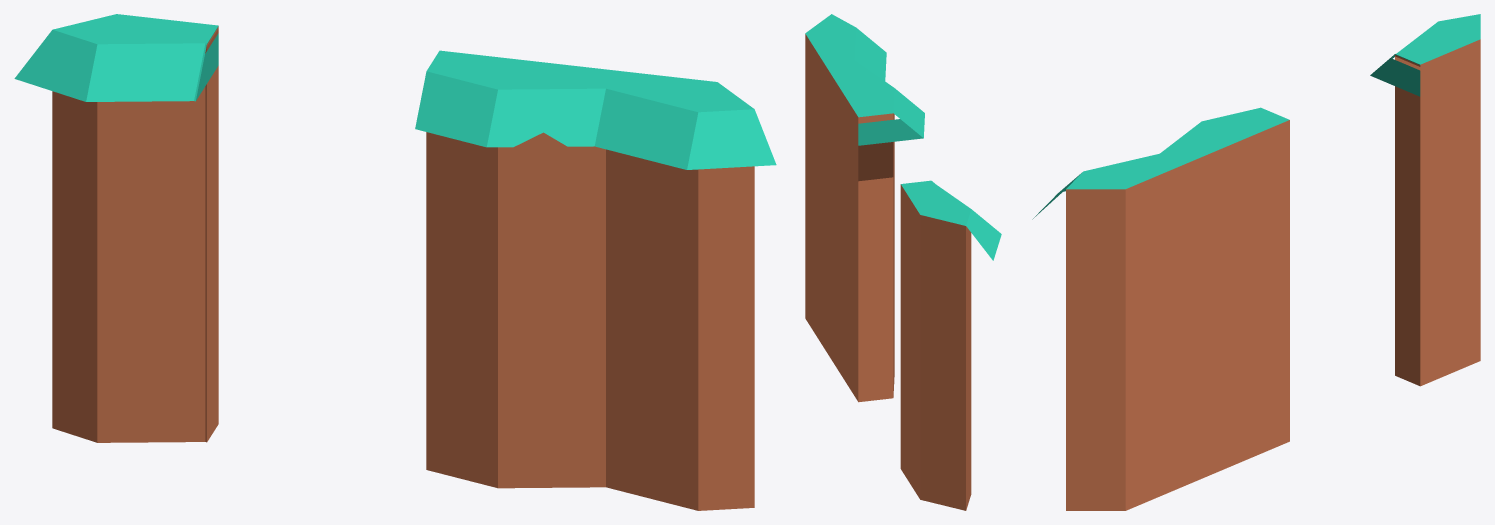
File: cliff_topDiagonal_rock_notch.fbx
The picture shows the model from 3 angles, left to right: view 1: azimuth 30°, elevation 25°; view 2: azimuth 150°, elevation 25°; view 3: azimuth 270°, elevation 25°; orthographic projection. The views are drawn at different scales.
Visible parts, largest first — view 1: cliff_topDiagonal_rock; view 2: cliff_topDiagonal_rock; view 3: cliff_topDiagonal_rock.
Part boxes in pixels (x1,y1,x2,y2): cliff_topDiagonal_rock: [14, 14, 776, 510]; cliff_topDiagonal_rock: [805, 14, 1001, 510]; cliff_topDiagonal_rock: [1032, 14, 1480, 510].
Size of the model in its own units: 12.68 by 10 by 12.68.
